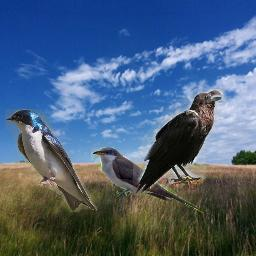Crow: (133, 89, 226, 194)
Cuckoo: (91, 147, 203, 215)
Swallow: (5, 109, 98, 212)
